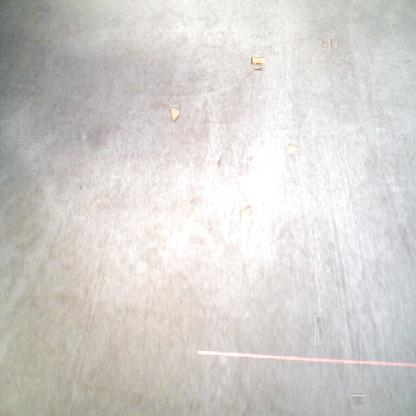dirty: (239, 204, 252, 221), (252, 55, 265, 69), (169, 105, 179, 122), (285, 143, 299, 153), (324, 39, 335, 50)
mark: (315, 316, 324, 345), (353, 394, 366, 407), (216, 153, 223, 169), (207, 226, 212, 234), (78, 182, 82, 190)
